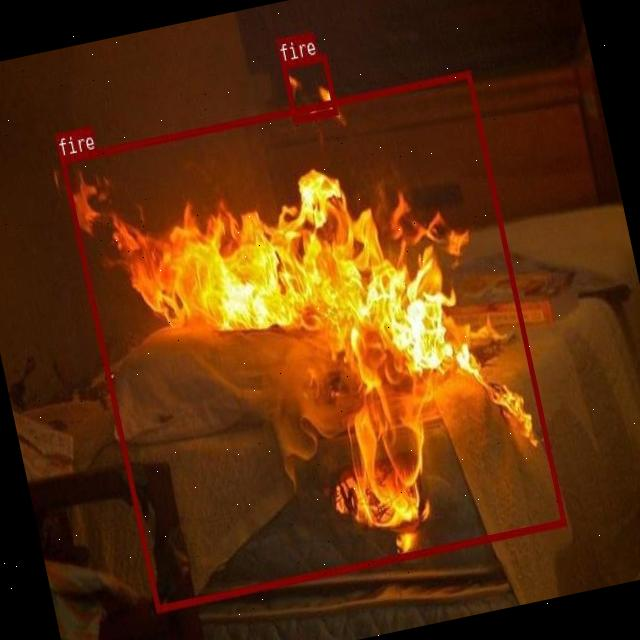fire: (59, 70, 566, 610), (280, 52, 336, 121)
